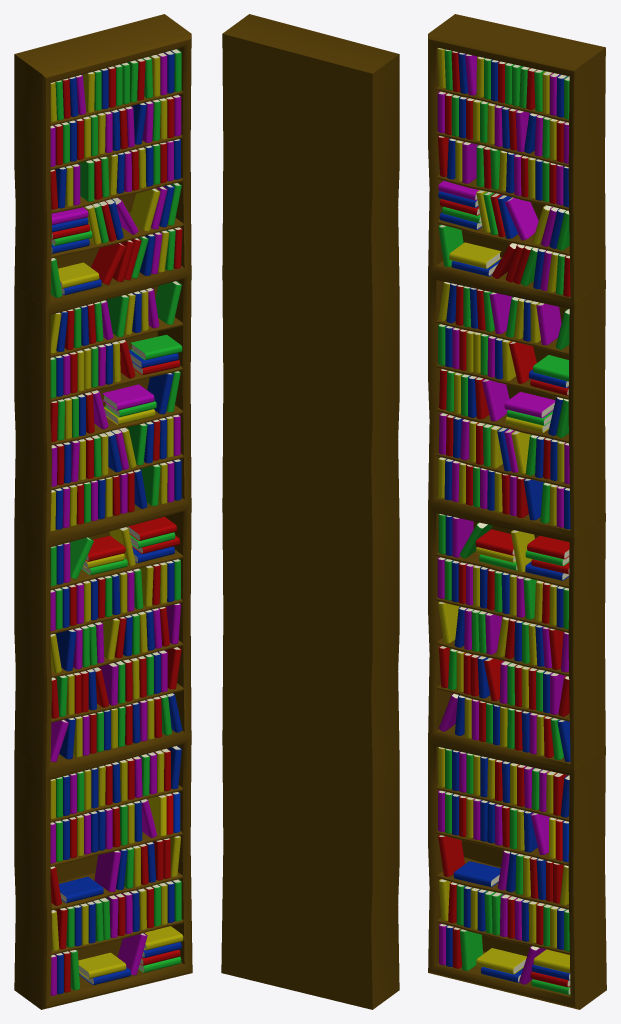
Rendered from bookshelf_a_new.fbx.
The picture shows the model from 3 angles, left to right: view 1: azimuth 30°, elevation 25°; view 2: azimuth 150°, elevation 25°; view 3: azimuth 330°, elevation 25°; orthographic projection.
Visible parts, largest first — view 1: books, shelf; view 2: shelf; view 3: books, shelf.
Boxes of the visible parts, bbox=[...] form: books: bbox=[50, 49, 183, 995]; shelf: bbox=[14, 14, 192, 1009]; shelf: bbox=[221, 14, 399, 1009]; books: bbox=[437, 48, 570, 994]; shelf: bbox=[428, 14, 606, 1009].
Size of the model in its own units: 94.85 by 563 by 31.41.
